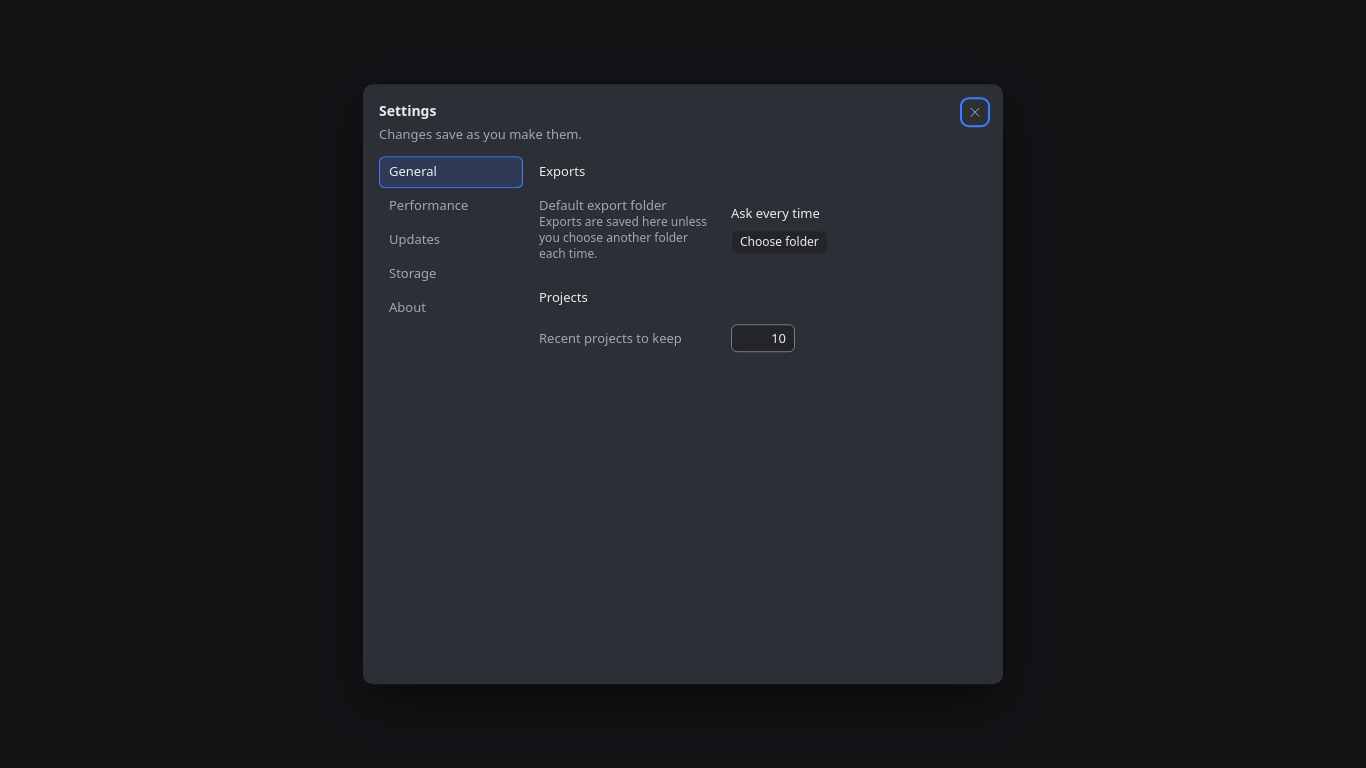
Test case: SettingsDialog › switches sections and shows the performance controls
The width and height of the screenshot is (1366, 768).
Step 1. Click the tab "Performance" → [451, 206], box [379,190,523,222]
(page scrolled)
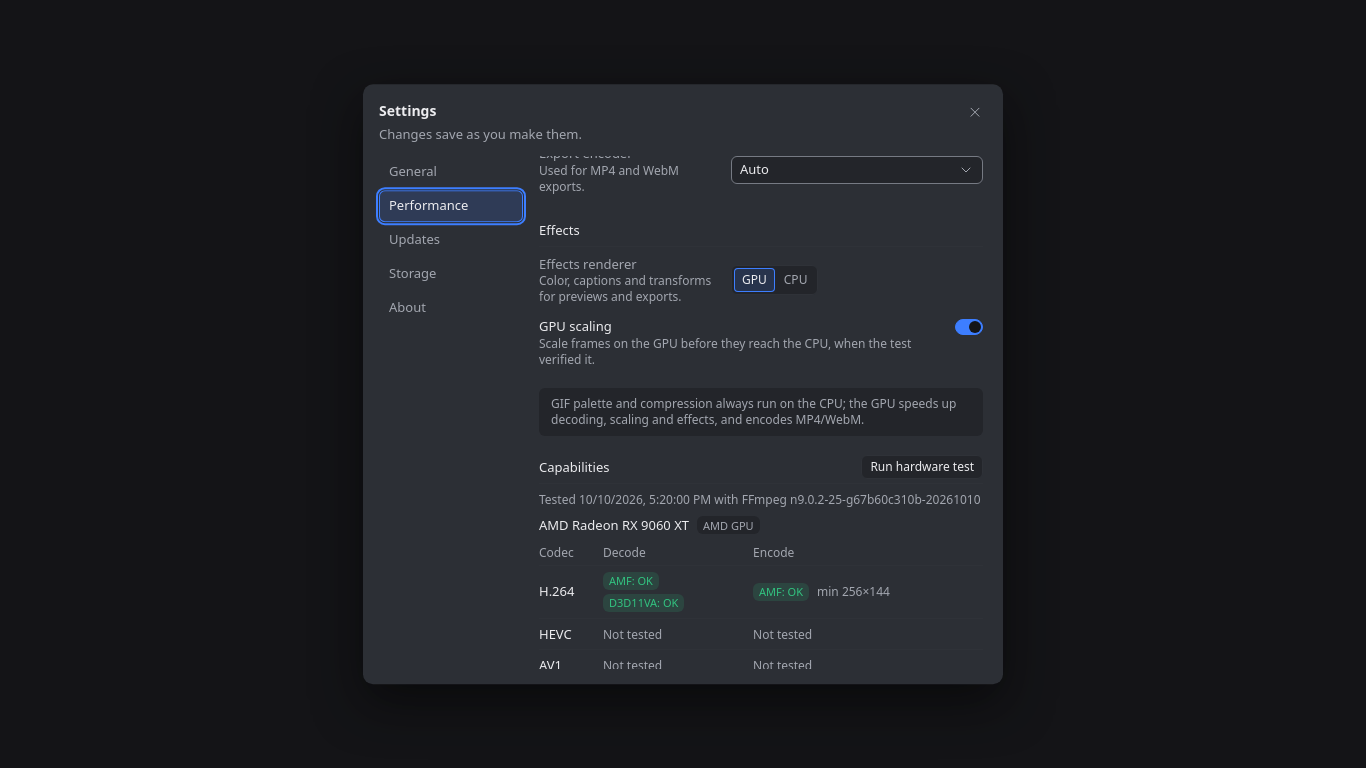
Expected: the button "Run hardware test" is shown, [861,456,983,480]
Expected: the text "GIF palette and compression always run on the CPU; the GPU speeds up decoding, scaling and effects, and encodes MP4/WebM" is shown, [551,395,956,428]
